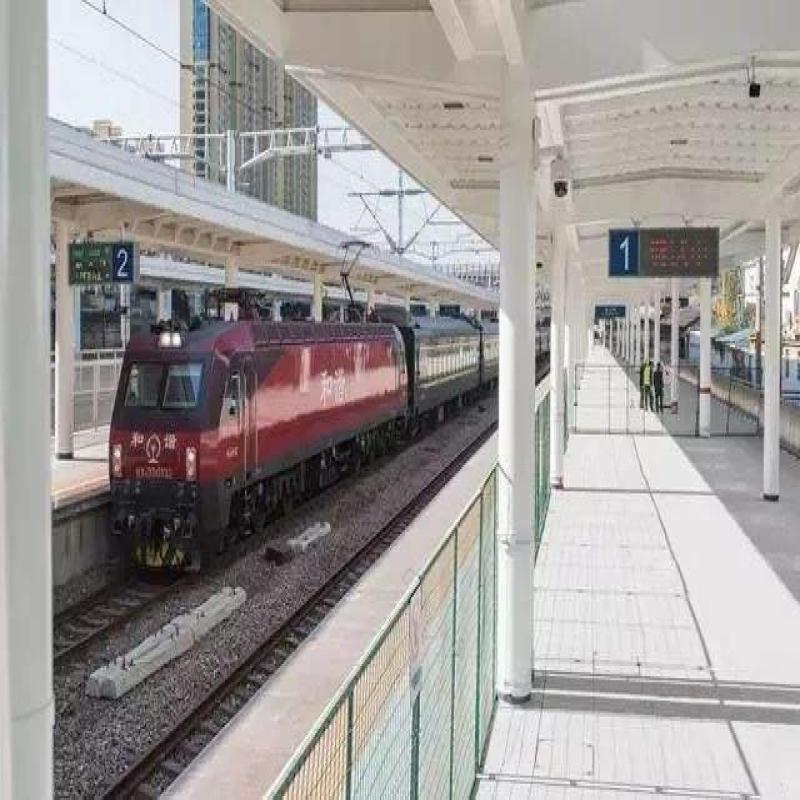train: (99, 297, 493, 529)
